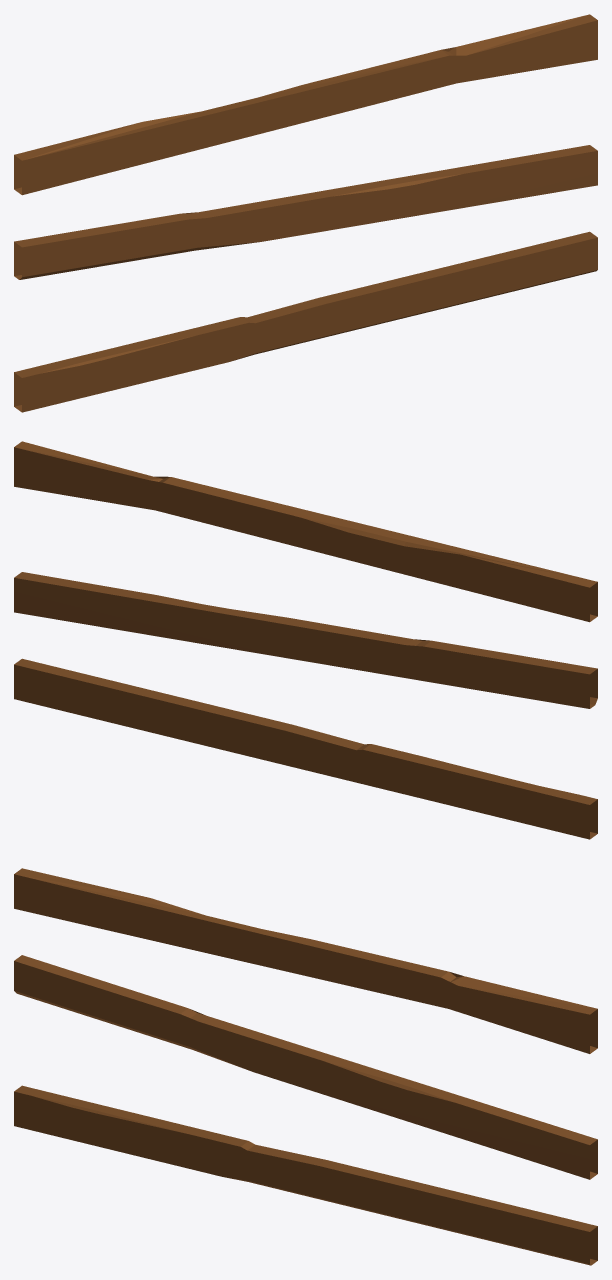
The model's file is Bld_02_Fence_Wood_Worned_01.obj.
The picture shows the model from 3 angles, top to bottom: view 1: azimuth 30°, elevation 25°; view 2: azimuth 150°, elevation 25°; view 3: azimuth 330°, elevation 25°; orthographic projection.
Visible parts, largest first — view 1: Bld_02_Fence_Wood_Worned_01; view 2: Bld_02_Fence_Wood_Worned_01; view 3: Bld_02_Fence_Wood_Worned_01.
Boxes of the visible parts, bbox=[...] form: Bld_02_Fence_Wood_Worned_01: bbox=[14, 14, 597, 412]; Bld_02_Fence_Wood_Worned_01: bbox=[14, 441, 597, 839]; Bld_02_Fence_Wood_Worned_01: bbox=[14, 868, 597, 1265].
Bounding box in the file's own units: 2.44 × 1.03 × 0.0591.
Materials: 1 (1 with a texture image).
